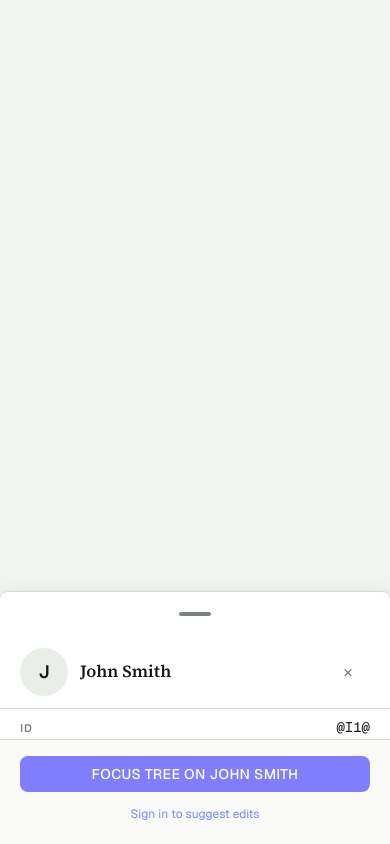
Test case: PersonDrawer › Sticky bottom actions bar and mobile drag handle › opens at the peek detent (~30vh) and tapping the drag handle expands it to full (72vh)
What coordinates should you click on to do the following:
click the button with test id "drawer-drag-handle"
I would click on:
 (195, 614)
Its box is [0,592,389,636].
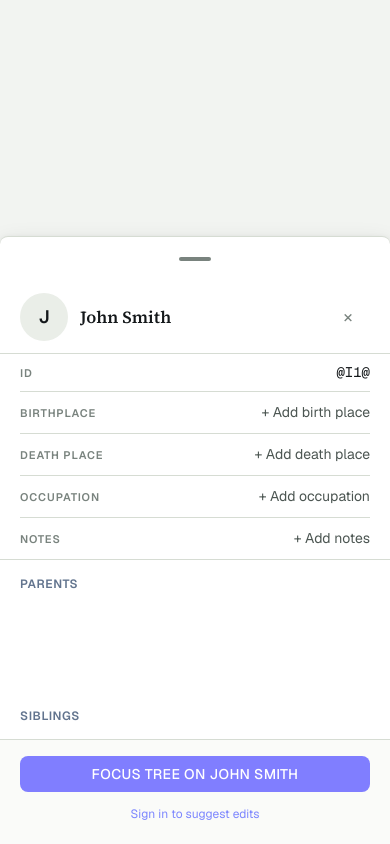
Expected: the button with test id "drawer-drag-handle" is expanded, [0,237,389,281]
